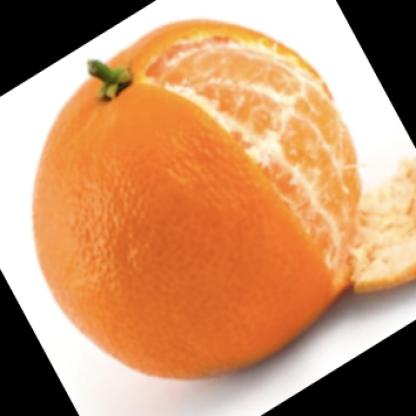fresh: (33, 19, 362, 379)
